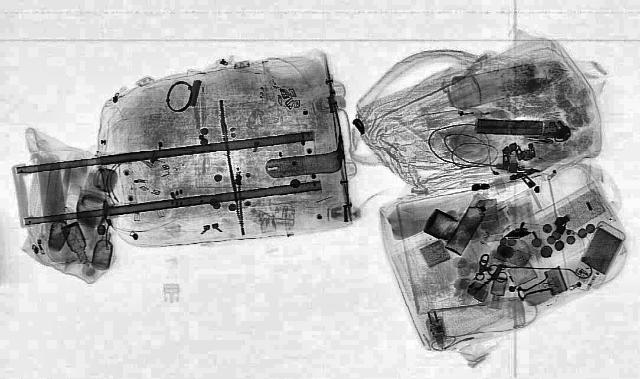Scissors: (464, 263, 514, 295)
